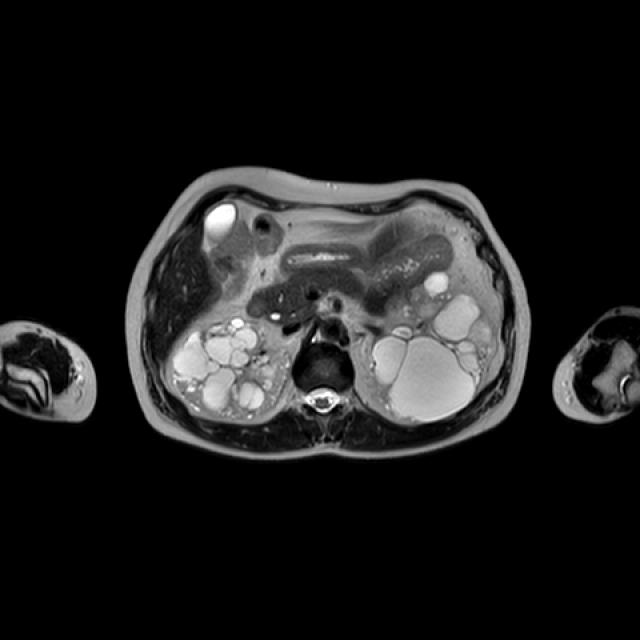sag: (174, 317, 291, 422)
sol: (366, 270, 498, 421)
